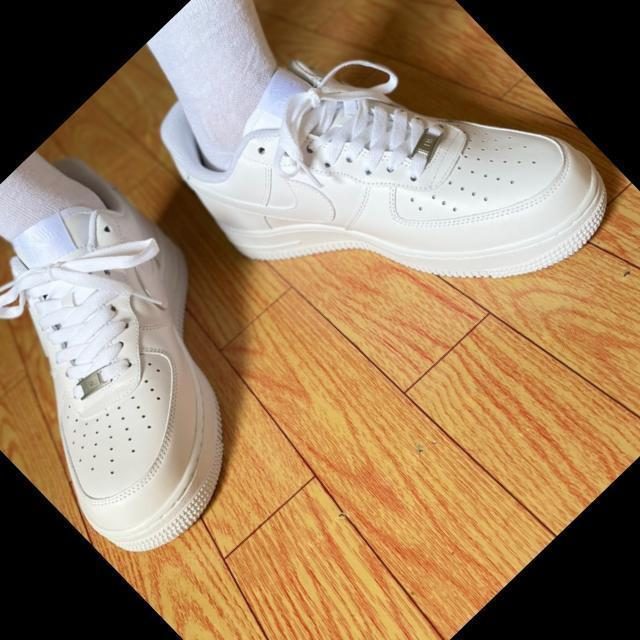nike original air force: (129, 0, 640, 423), (0, 128, 339, 585)
